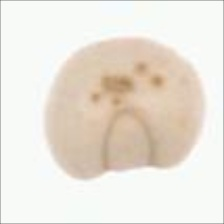L5: (101, 105, 154, 174)
L6: (41, 35, 206, 184)
